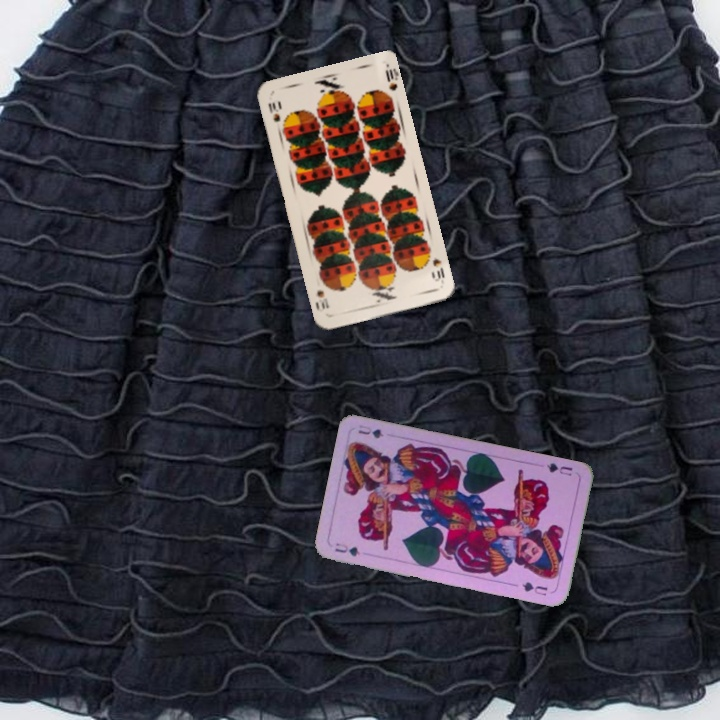GU: (543, 459, 575, 479), (331, 539, 363, 559)
S10: (428, 254, 447, 284), (264, 97, 283, 124)
